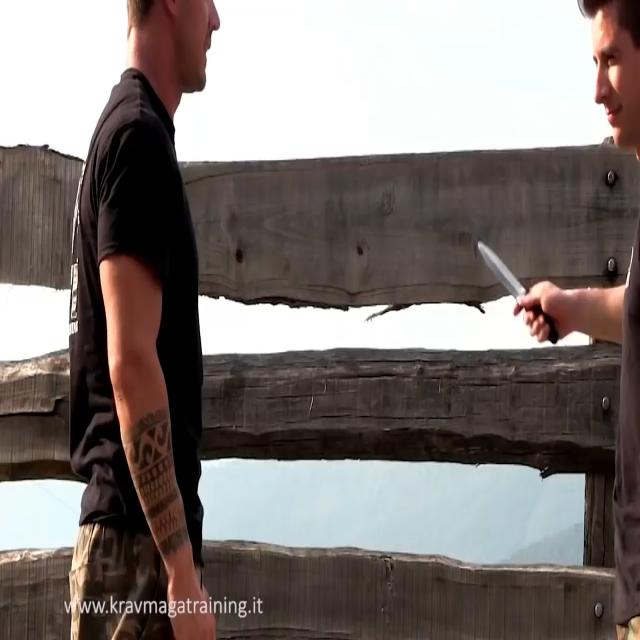knife: (477, 238, 529, 309)
